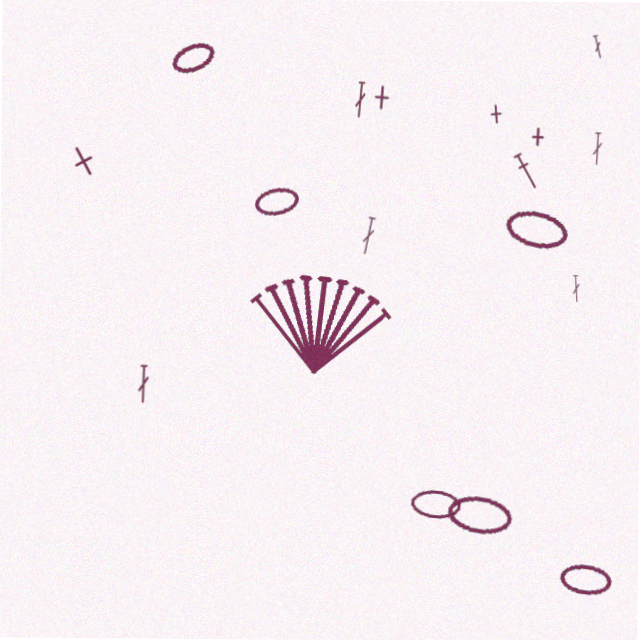chain: (501, 203, 570, 253), (446, 490, 517, 538), (165, 37, 218, 81), (560, 559, 615, 595), (251, 184, 301, 219), (411, 487, 463, 520)
double: (358, 216, 377, 255), (351, 81, 366, 118), (137, 366, 151, 405), (590, 130, 602, 163), (589, 32, 602, 57), (571, 273, 581, 300)
fan: (240, 257, 399, 383)
half_double: (509, 149, 541, 190)
single: (60, 141, 104, 185), (367, 84, 393, 110), (484, 102, 505, 123), (526, 125, 546, 145)
